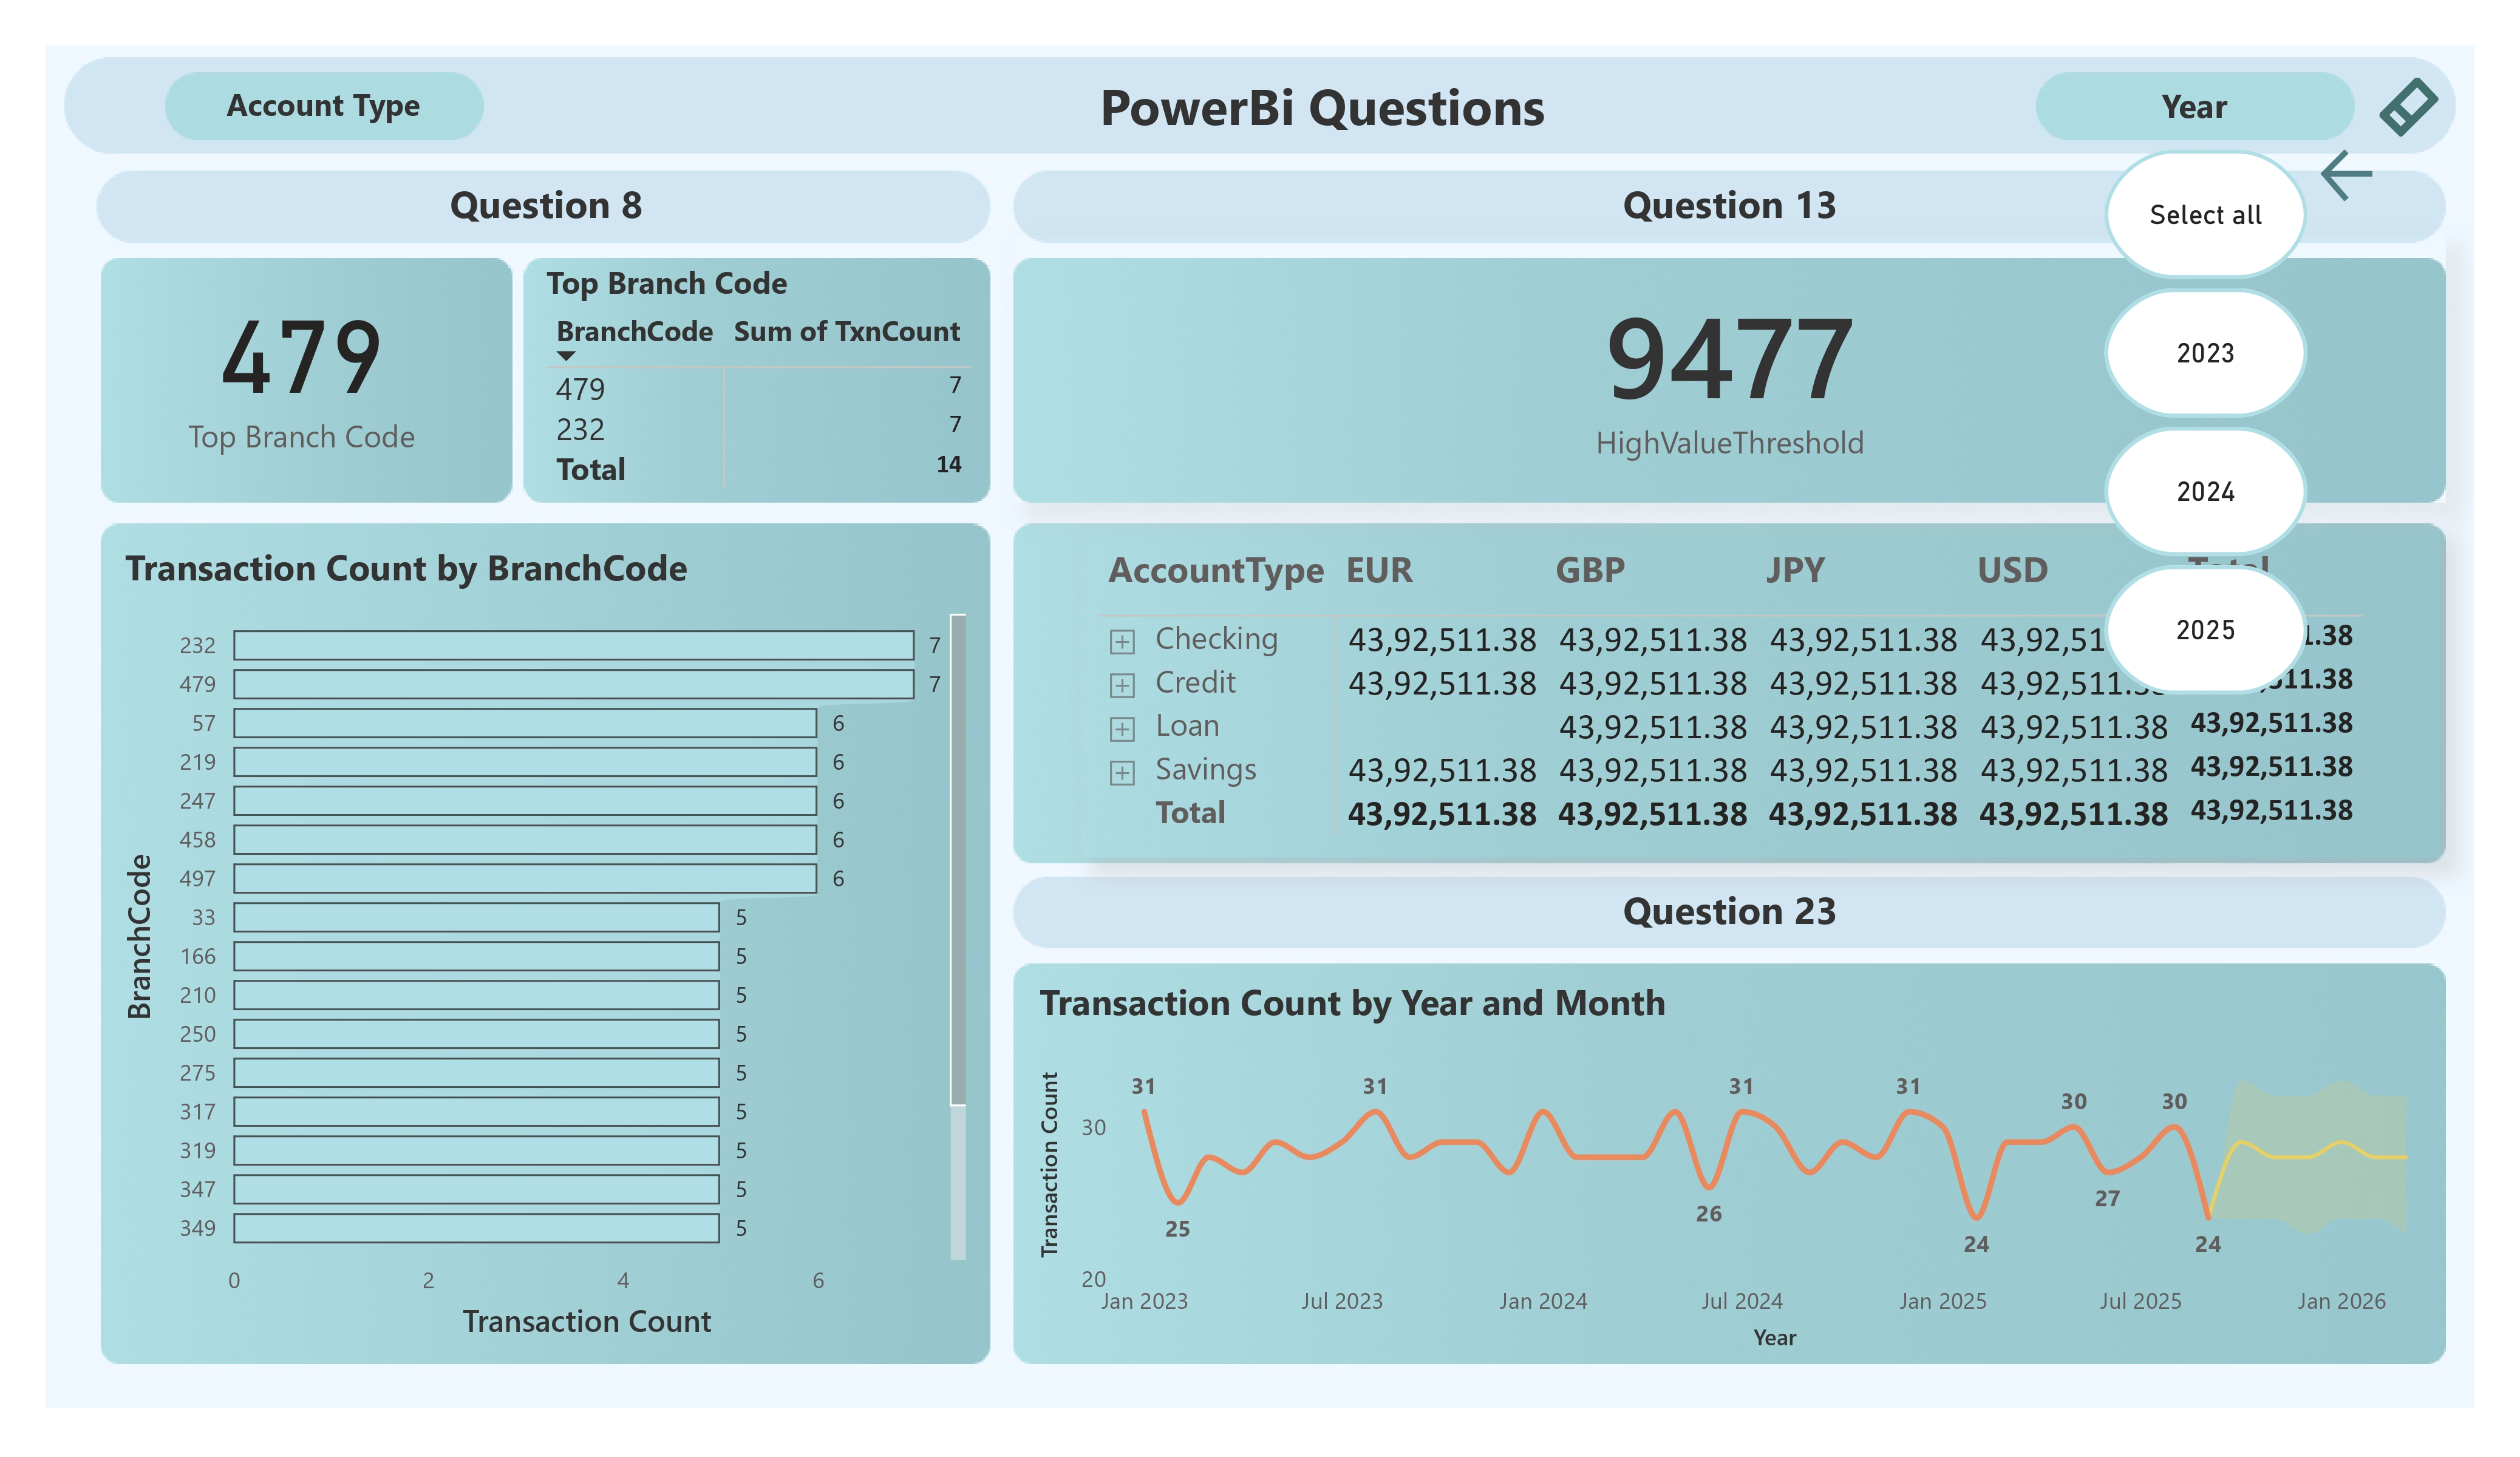

The dashboard page shown, as its layout file describes it:
{"tool":"powerbi","page":{"name":"Questions","canvas":[1280,720],"ordinal":0},"visuals":[{"type":"actionButton","title":"Account Type Button","box":[60.3,9.5,172.7,40.6],"z":0,"group":"g2"},{"type":"actionButton","title":"Year Button","box":[1045.8,9.5,172.7,40.6],"z":0,"group":"g1"},{"type":"barChart","fields":{"Y":["Dax.Transaction Count"],"Category":["Banking Transactions.BranchCode"]},"box":[36.8,262,452.9,425.3],"z":0},{"type":"lineChart","fields":{"Category":["TransactionDate.Date.Variation.Date Hierarchy.Year","TransactionDate.Date.Variation.Date Hierarchy.Month"],"Y":["Dax.Transaction Count"]},"box":[519.4,486.3,753.8,206.2],"z":1000},{"type":"card","fields":{"Values":["Dax.Top Branch Code"]},"box":[27.6,104.4,213.9,126.8],"z":2000},{"type":"pivotTable","title":"Top Branch Code","fields":{"Values":["Sum(Top Branch.TxnCount)"],"Rows":["Top Branch.BranchCode"]},"box":[255.3,109.7,242,138.1],"z":3000},{"type":"card","fields":{"Values":["Dax.HighValueThreshold"]},"box":[511.5,100.1,753.9,140.6],"z":4000},{"type":"shape","box":[31.9,62.1,464,40.5],"z":5000},{"type":"shape","box":[511.5,62.1,753.9,40.5],"z":6000},{"type":"shape","box":[511.5,433.9,753.9,40.5],"z":7000},{"type":"shape","box":[458,10.4,429.5,40.5],"z":8000},{"type":"group","id":"g1","title":"Year Button","box":[1045.8,9.5,185.6,336.1],"z":9000},{"type":"group","id":"g2","title":"Account Type Button","box":[60.3,9.5,185.6,364.5],"z":10000},{"type":"actionButton","box":[1225.7,10,39.3,43.5],"z":11000},{"type":"pivotTable","title":"High-Value Transactions","fields":{"Rows":["Customer Account Details.AccountType","Banking Transactions.BranchCode"],"Values":["Sum(Dataset.Amount)"],"Columns":["Banking Transactions.Currency"]},"box":[545.7,253.9,715.9,174.1],"z":12000}]}

Visuals, with their boxes on the page's 1280x720 design canvas (x1, y1, x2, y2). These are canvas units, not pixel positions in the 2520x1457 screenshot, which may show the page scaled, cropped or inside an application window:
"Account Type Button" actionButton: locate(60, 10, 233, 50)
"Year Button" actionButton: locate(1046, 10, 1218, 50)
barChart - Dax.Transaction Count x Banking Transactions.BranchCode: locate(37, 262, 490, 687)
lineChart - TransactionDate.Date.Variation.Date Hierarchy.Year x TransactionDate.Date.Variation.Date Hierarchy.Month: locate(519, 486, 1273, 692)
card - Dax.Top Branch Code: locate(28, 104, 242, 231)
"Top Branch Code" pivotTable: locate(255, 110, 497, 248)
card - Dax.HighValueThreshold: locate(512, 100, 1265, 241)
shape: locate(32, 62, 496, 103)
shape: locate(512, 62, 1265, 103)
shape: locate(512, 434, 1265, 474)
shape: locate(458, 10, 888, 51)
"Year Button" group: locate(1046, 10, 1231, 346)
"Account Type Button" group: locate(60, 10, 246, 374)
actionButton: locate(1226, 10, 1265, 54)
"High-Value Transactions" pivotTable: locate(546, 254, 1262, 428)
